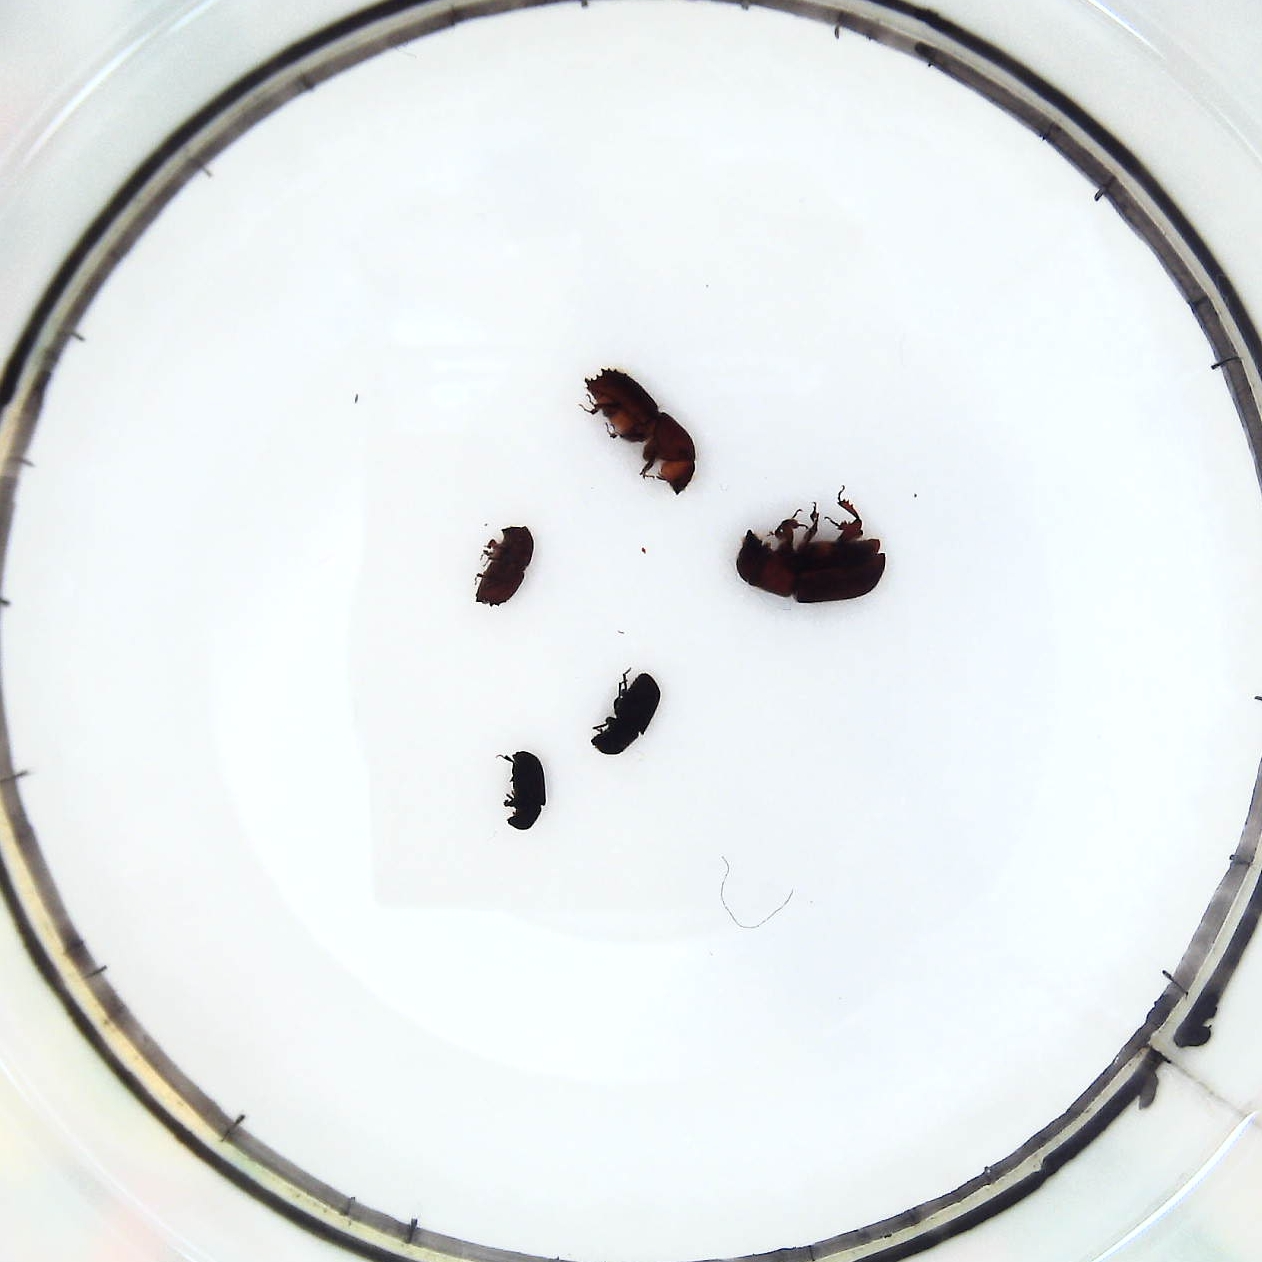Boerner: (581, 365, 700, 499)
Leconte: (735, 487, 891, 609)
armandi: (588, 667, 661, 762)
coleoptera: (498, 745, 552, 840)
linnaeus: (474, 524, 537, 613)
